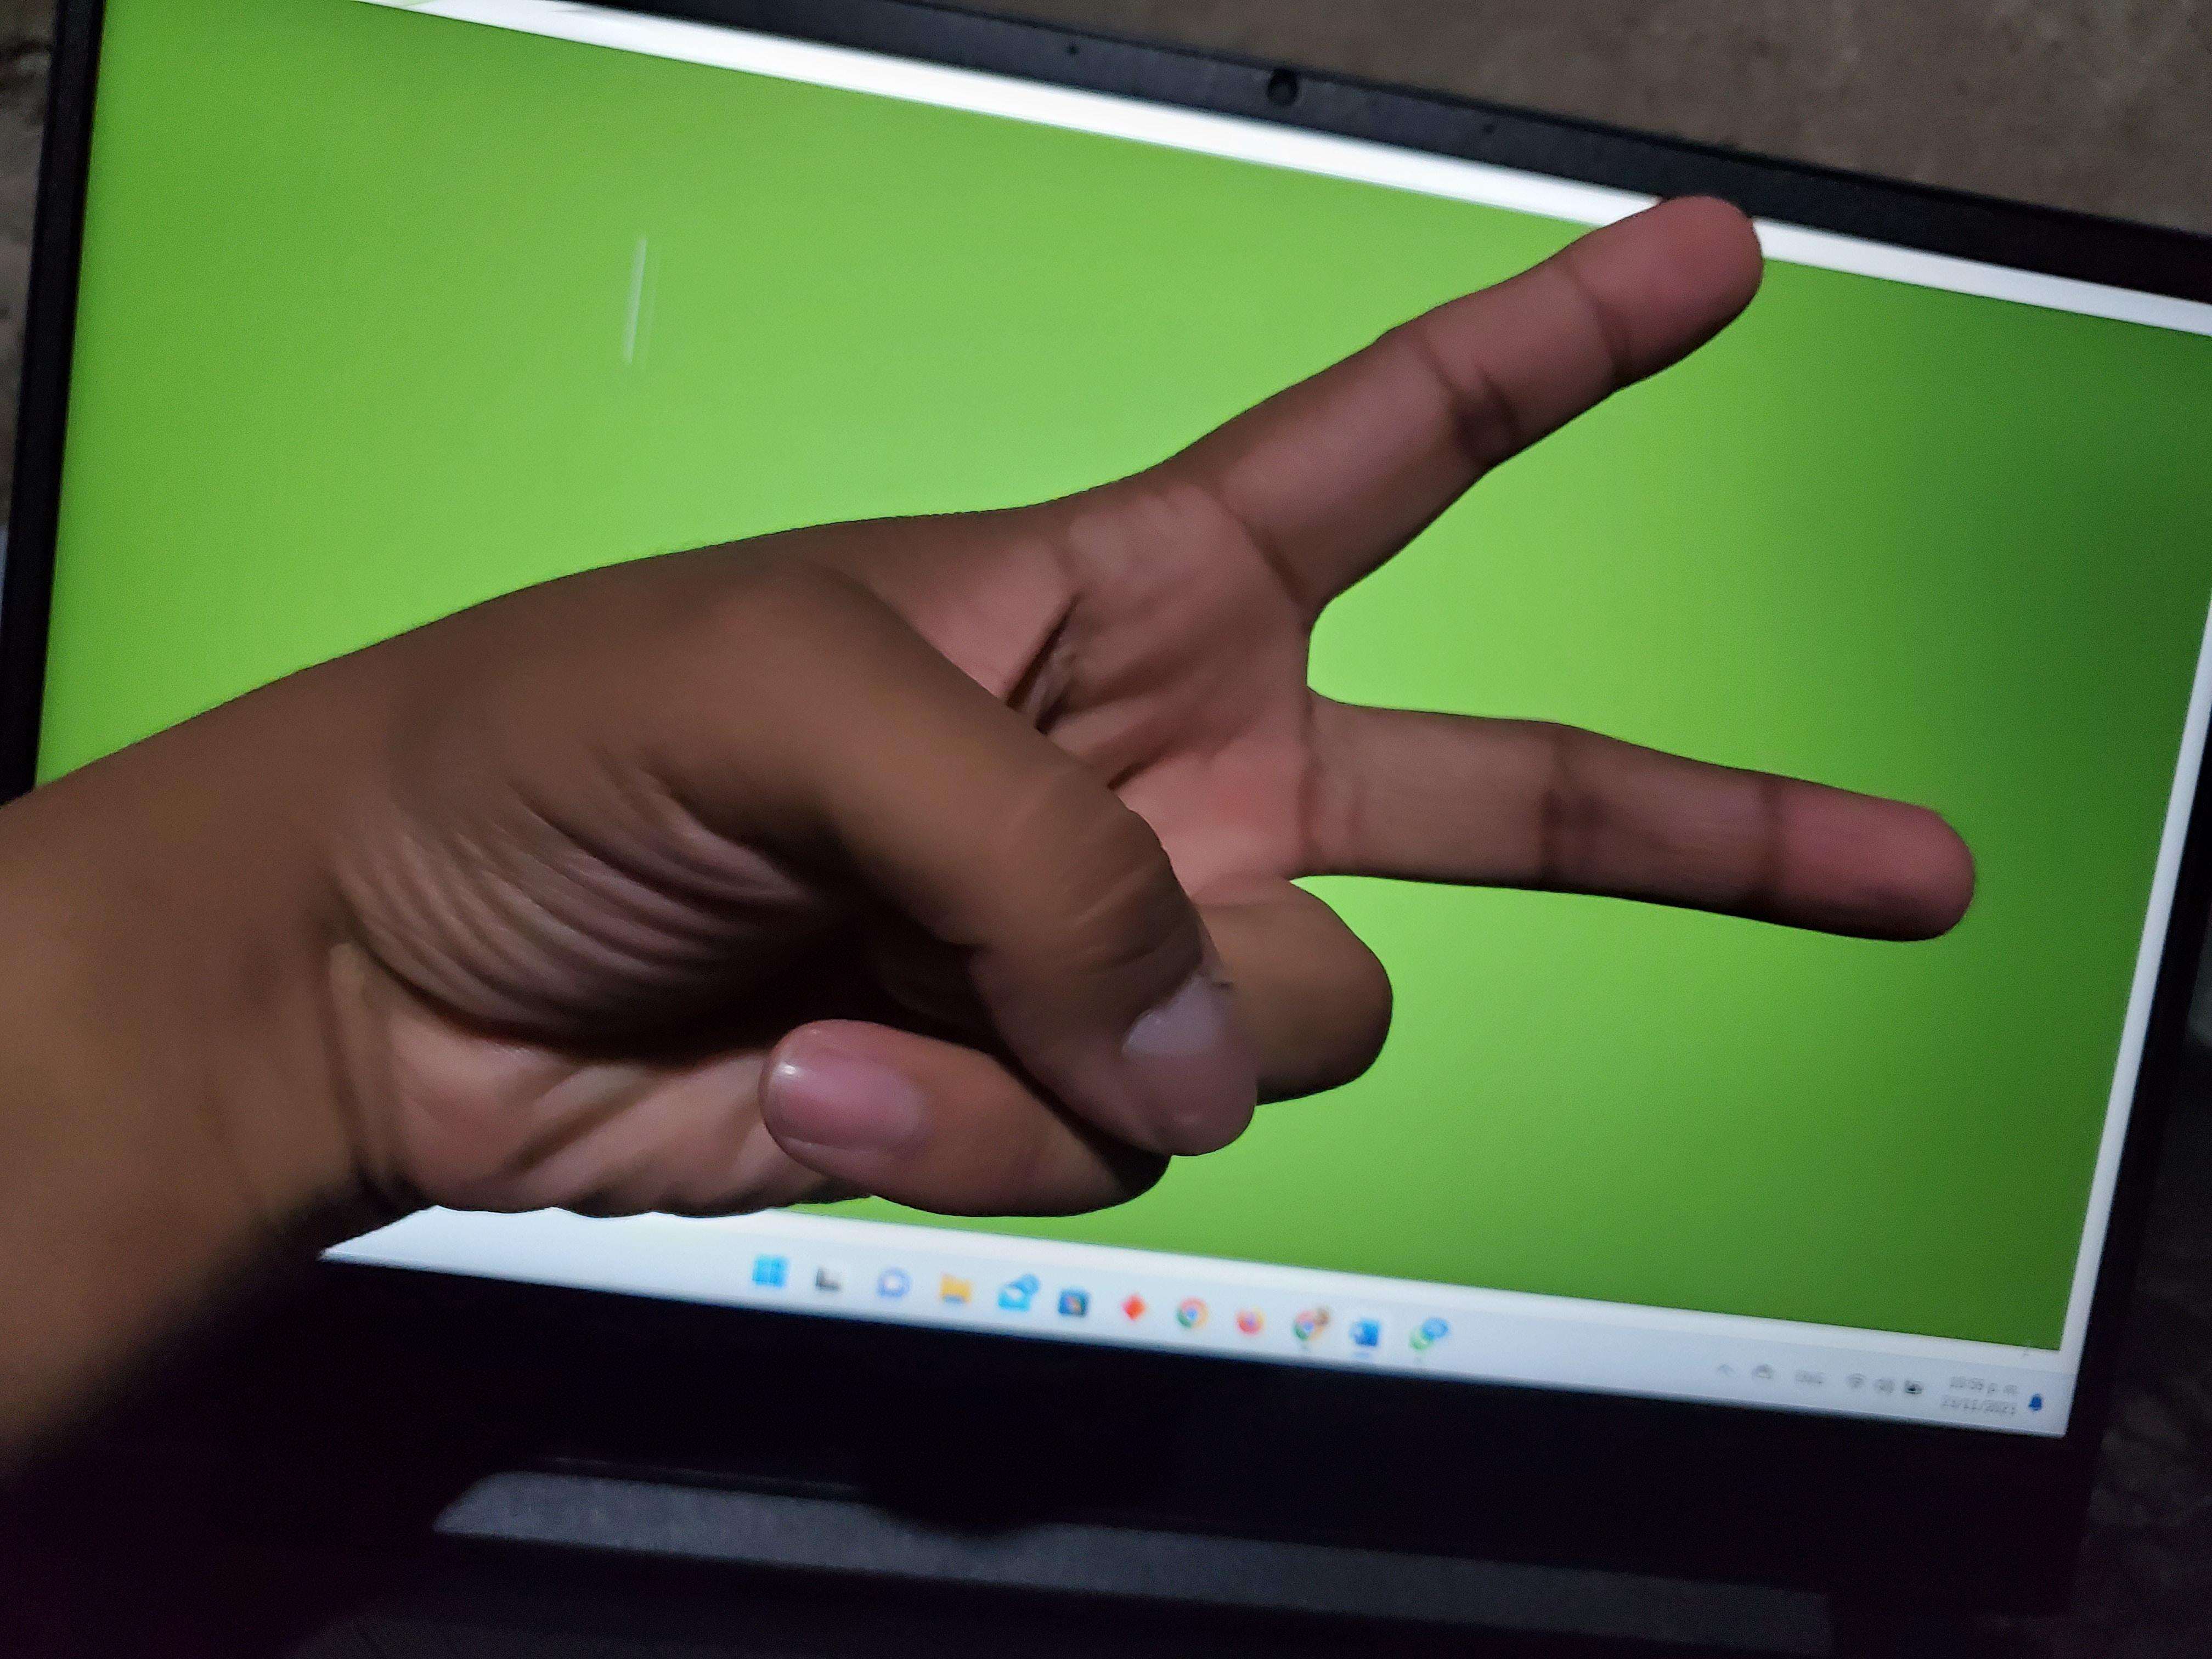Scissor: (89, 28, 2137, 1324)
